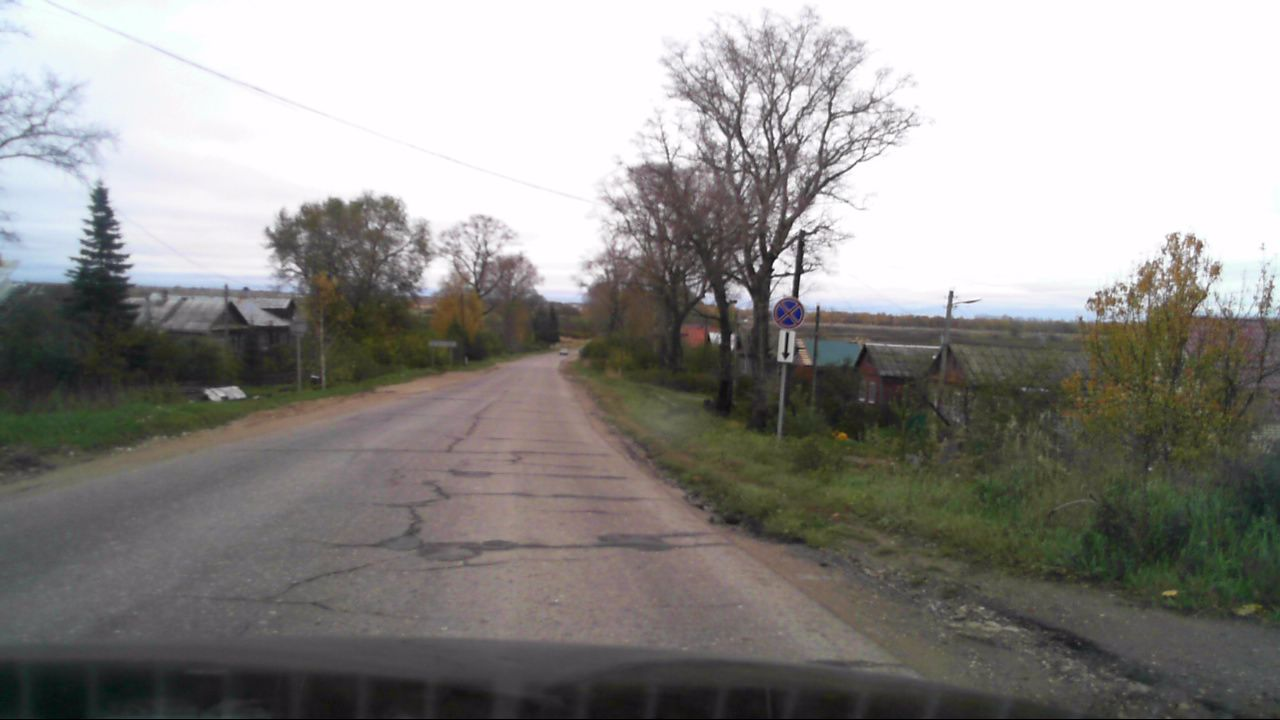No Parking: (772, 296, 804, 329)
